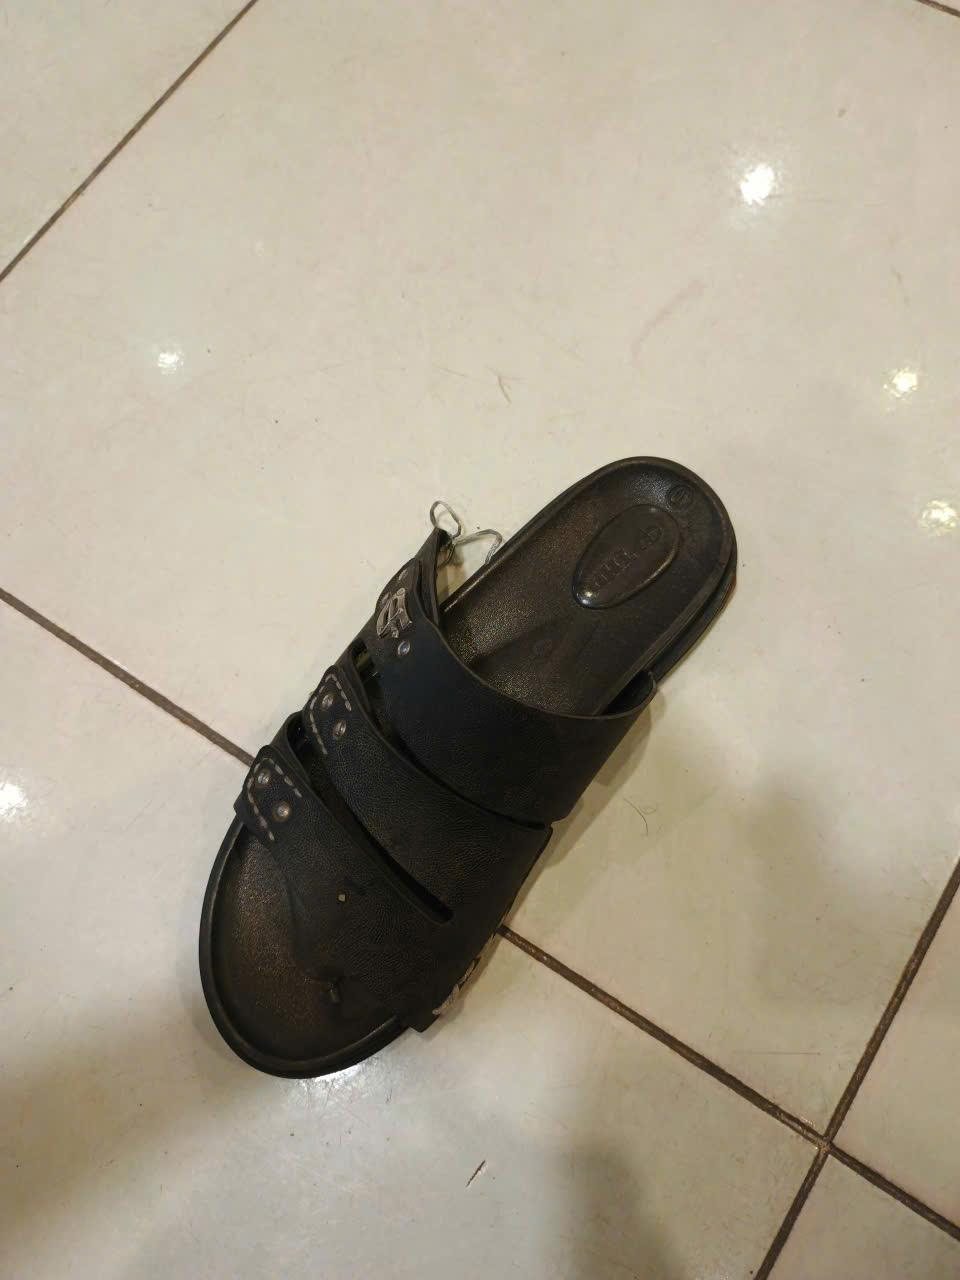Con lai: (200, 451, 738, 1076)
